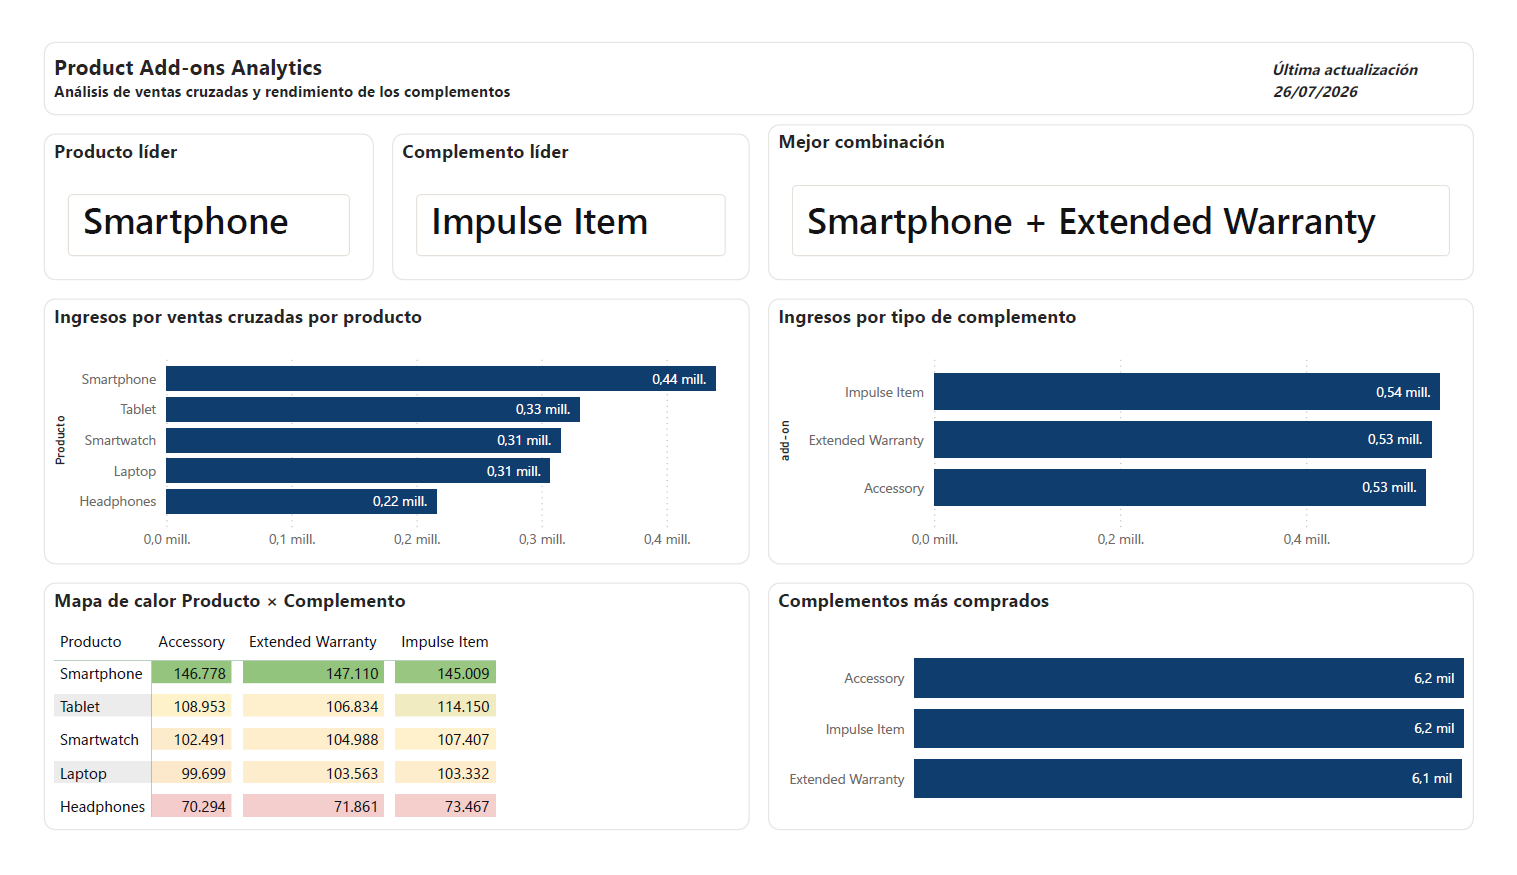

The page's visual inventory and layout, read from the dashboard file:
{"tool":"powerbi","page":{"name":"Product Add-ons Analytics","canvas":[1280,720],"ordinal":4},"visuals":[{"type":"textbox","box":[16,16,1248,64],"z":0},{"type":"pivotTable","title":"Mapa de calor Producto × Complemento       ","fields":{"Rows":["Addons.product_type"],"Columns":["Addons.add-on"],"Values":["Sum(Addons.addon_total)"]},"box":[16,488,616,216],"z":2000},{"type":"clusteredBarChart","title":"Ingresos por ventas cruzadas por producto","fields":{"Y":["Sum(Addons.addon_total)"],"Category":["Addons.product_type"]},"box":[16,240,616,232],"z":3000},{"type":"clusteredBarChart","title":"Complementos más comprados","fields":{"Category":["Addons.add-on"],"Y":["CountNonNull(Addons.addon_total)"]},"box":[648,488,616,216],"z":4000},{"type":"clusteredBarChart","title":"Ingresos por tipo de complemento","fields":{"Category":["Addons.add-on"],"Y":["Sum(Addons.addon_total)"]},"box":[648,240,616,232],"z":5000},{"type":"cardVisual","title":"Producto líder","fields":{"Data":["_Measures.Producto Líder"]},"box":[16,96,288,128],"z":6000},{"type":"cardVisual","title":"Complemento líder","fields":{"Data":["_Measures.Complemento Más Comprado"]},"box":[320,96,312,128],"z":6001},{"type":"cardVisual","title":"Mejor combinación","fields":{"Data":["_Measures.Mejor Combinación"]},"box":[648,88,616,136],"z":6003}]}

Visuals, with their boxes in screenshot pixels (x1, y1, x2, y2), scaled from the page's 1280x720 canvas onto the 1517x875 screenshot:
textbox: l=19, t=19, r=1498, b=97
"Mapa de calor Producto × Complemento       " pivotTable: l=19, t=593, r=749, b=856
"Ingresos por ventas cruzadas por producto" clusteredBarChart: l=19, t=292, r=749, b=574
"Complementos más comprados" clusteredBarChart: l=768, t=593, r=1498, b=856
"Ingresos por tipo de complemento" clusteredBarChart: l=768, t=292, r=1498, b=574
"Producto líder" cardVisual: l=19, t=117, r=360, b=272
"Complemento líder" cardVisual: l=379, t=117, r=749, b=272
"Mejor combinación" cardVisual: l=768, t=107, r=1498, b=272
